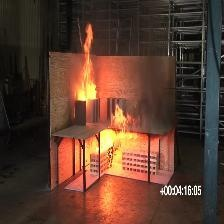fire: (66, 17, 116, 115), (91, 103, 142, 189)
